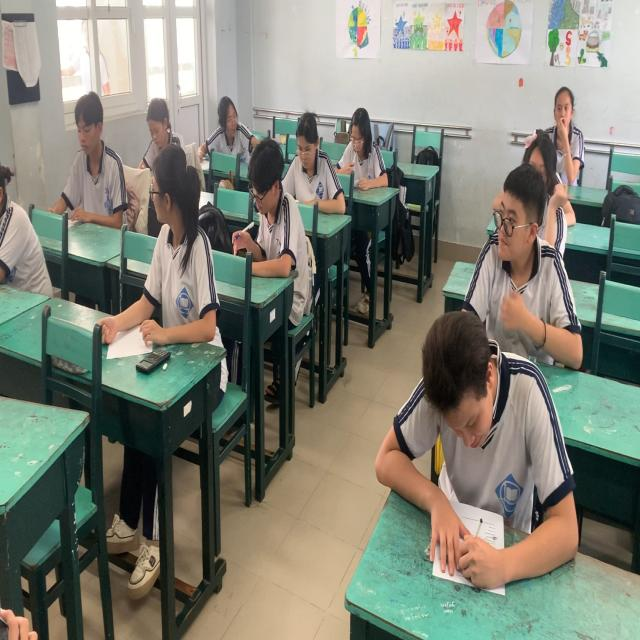cheating: (476, 163, 564, 363), (142, 146, 218, 340), (212, 87, 244, 153)
not_cheating: (397, 312, 532, 568), (63, 91, 119, 225), (246, 142, 306, 267), (286, 108, 333, 204), (545, 77, 582, 156), (338, 104, 374, 184), (144, 84, 174, 146)
